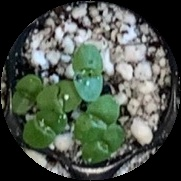Basil: (72, 40, 104, 102), (77, 94, 121, 138), (23, 107, 69, 146), (7, 73, 42, 123), (83, 125, 128, 163), (38, 80, 85, 112)
